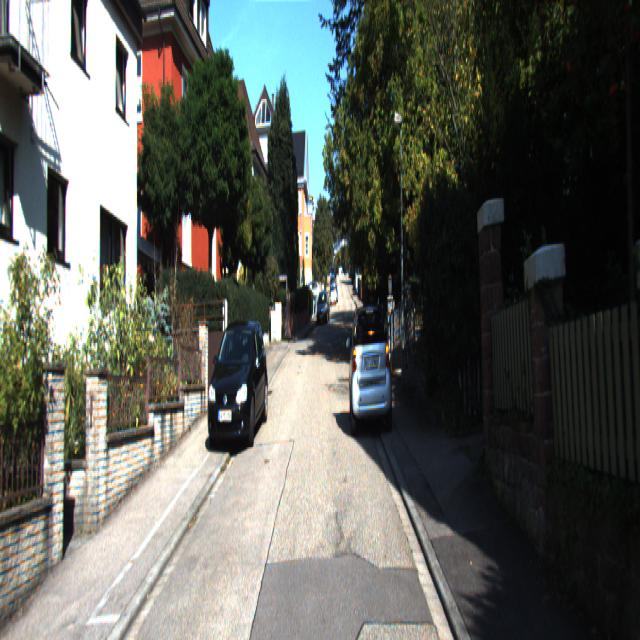Car: (204, 321, 269, 459), (347, 297, 393, 437)
